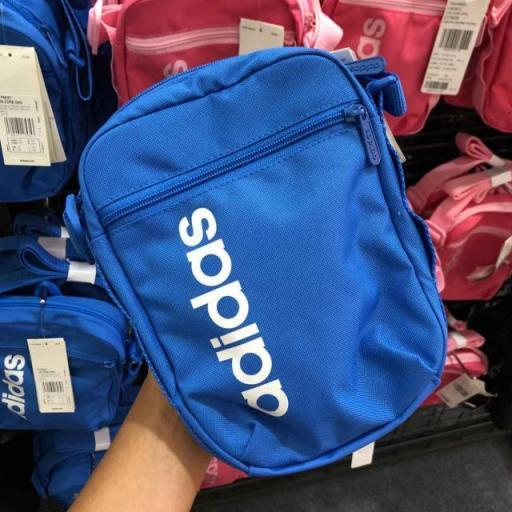bag: (62, 35, 460, 488)
